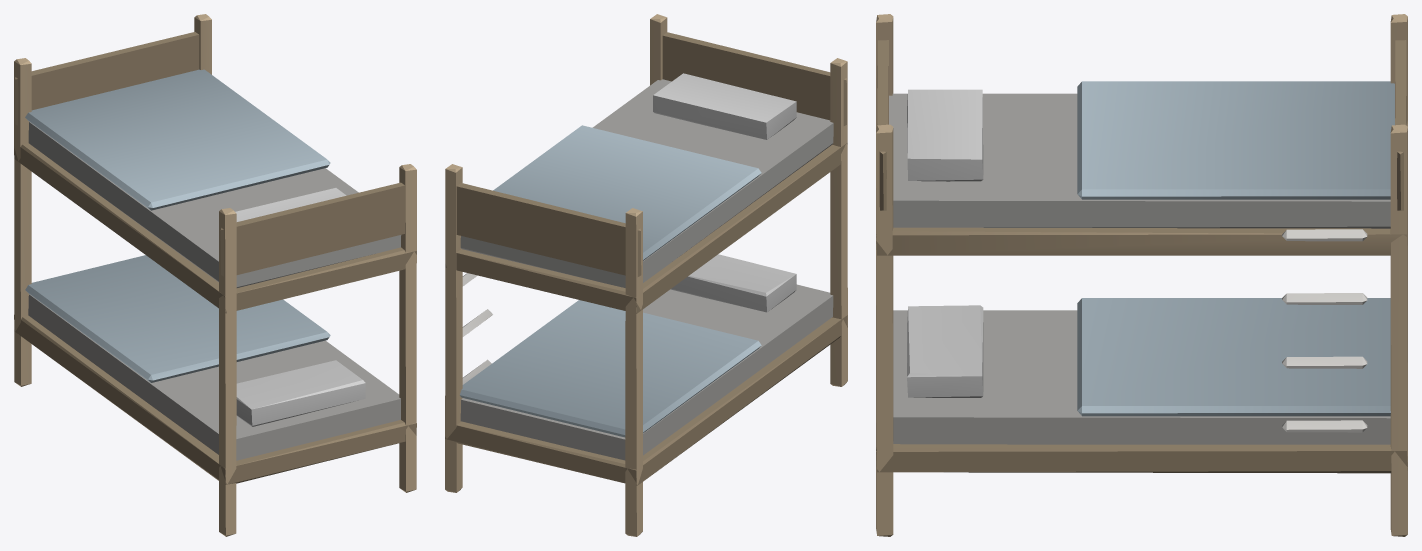
Rendered from furn_bunk_bed__oak_low.glb.
3 renders of one model, left to right at view 1: azimuth 30°, elevation 25°; view 2: azimuth 150°, elevation 25°; view 3: azimuth 270°, elevation 25°, orthographic. The views are drawn at different scales.
Size of the model in its own units: 1.05 by 1.6 by 1.89.
